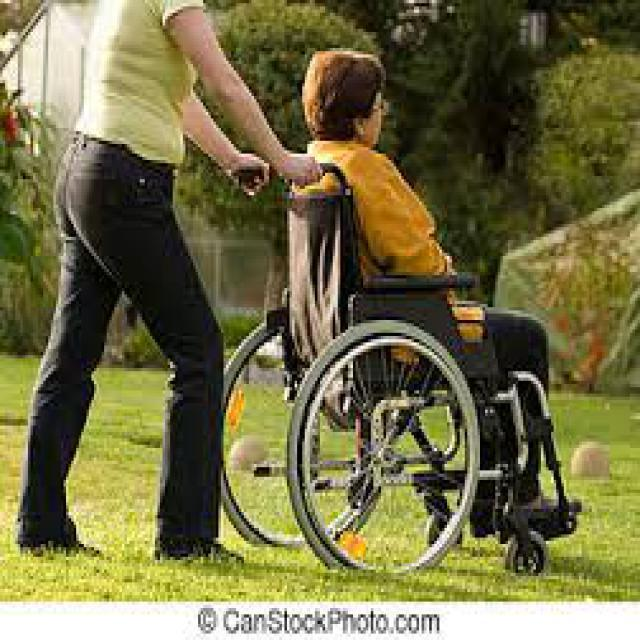wheelchairs: (221, 153, 584, 572)
